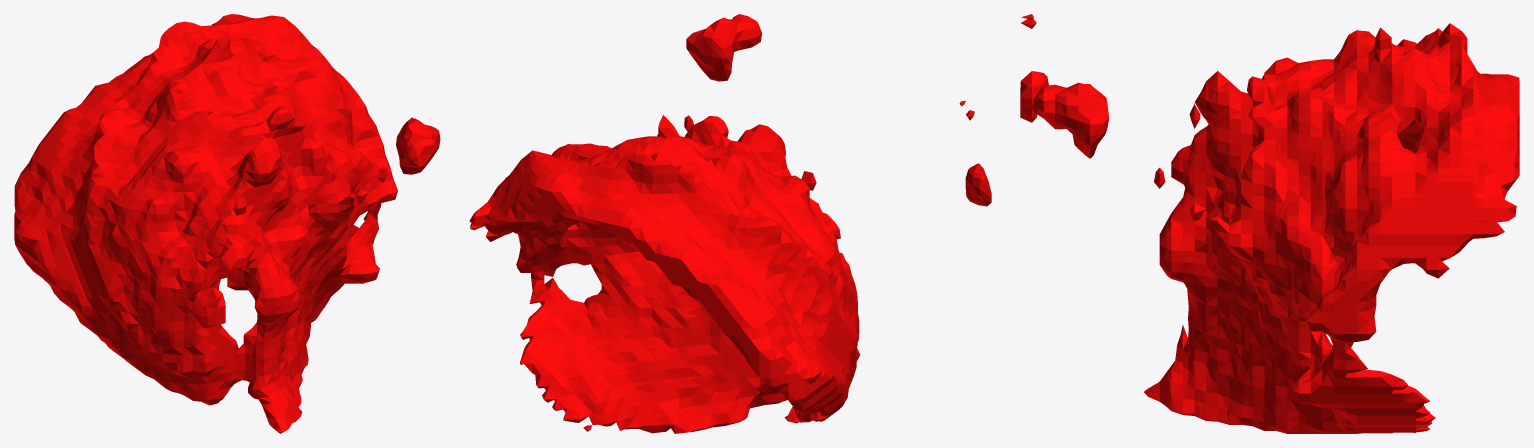
File: B939XXXX-1_valve_31.obj
3 renders of one model, left to right at view 1: azimuth 30°, elevation 25°; view 2: azimuth 150°, elevation 25°; view 3: azimuth 270°, elevation 25°, orthographic. The views are drawn at different scales.
Parts seen in each view (by area): view 1: 31_valve; view 2: 31_valve; view 3: 31_valve.
Part boxes in pixels (left/top/right/bottom): 31_valve: left=14, top=14, right=440, bottom=433; 31_valve: left=469, top=14, right=991, bottom=433; 31_valve: left=1020, top=14, right=1519, bottom=433.
Bounding box in the file's own units: 77.98 × 74.96 × 85.95.
